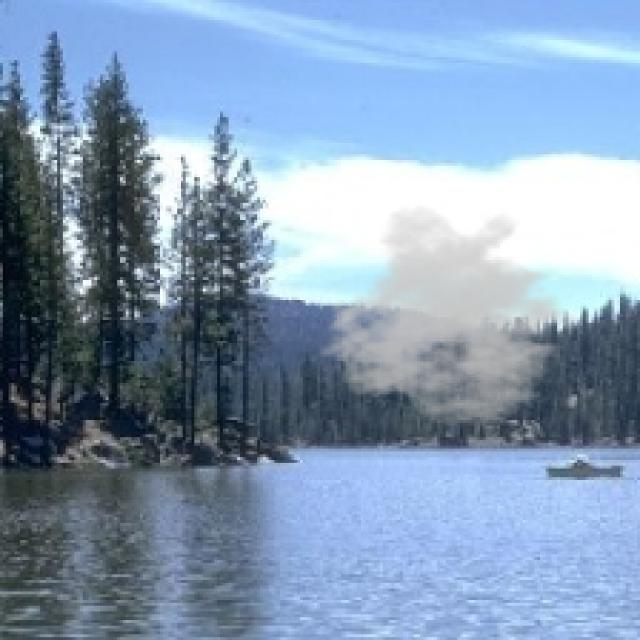smoke: (317, 203, 594, 428)
